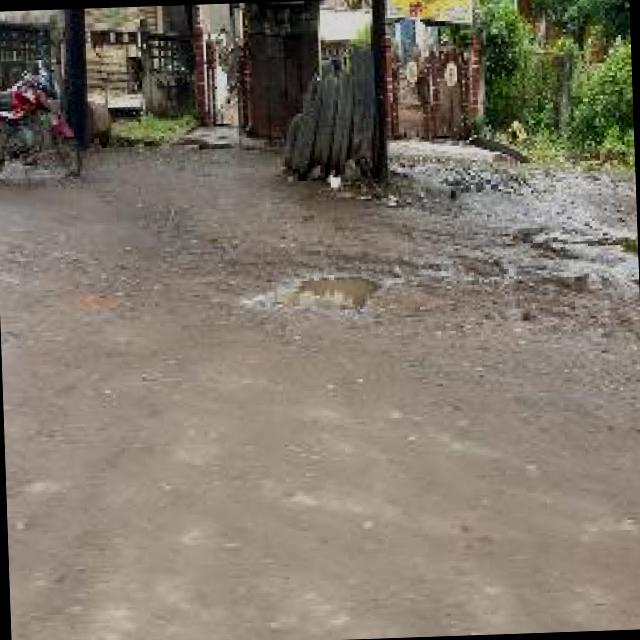stagnation: (249, 258, 390, 328)
